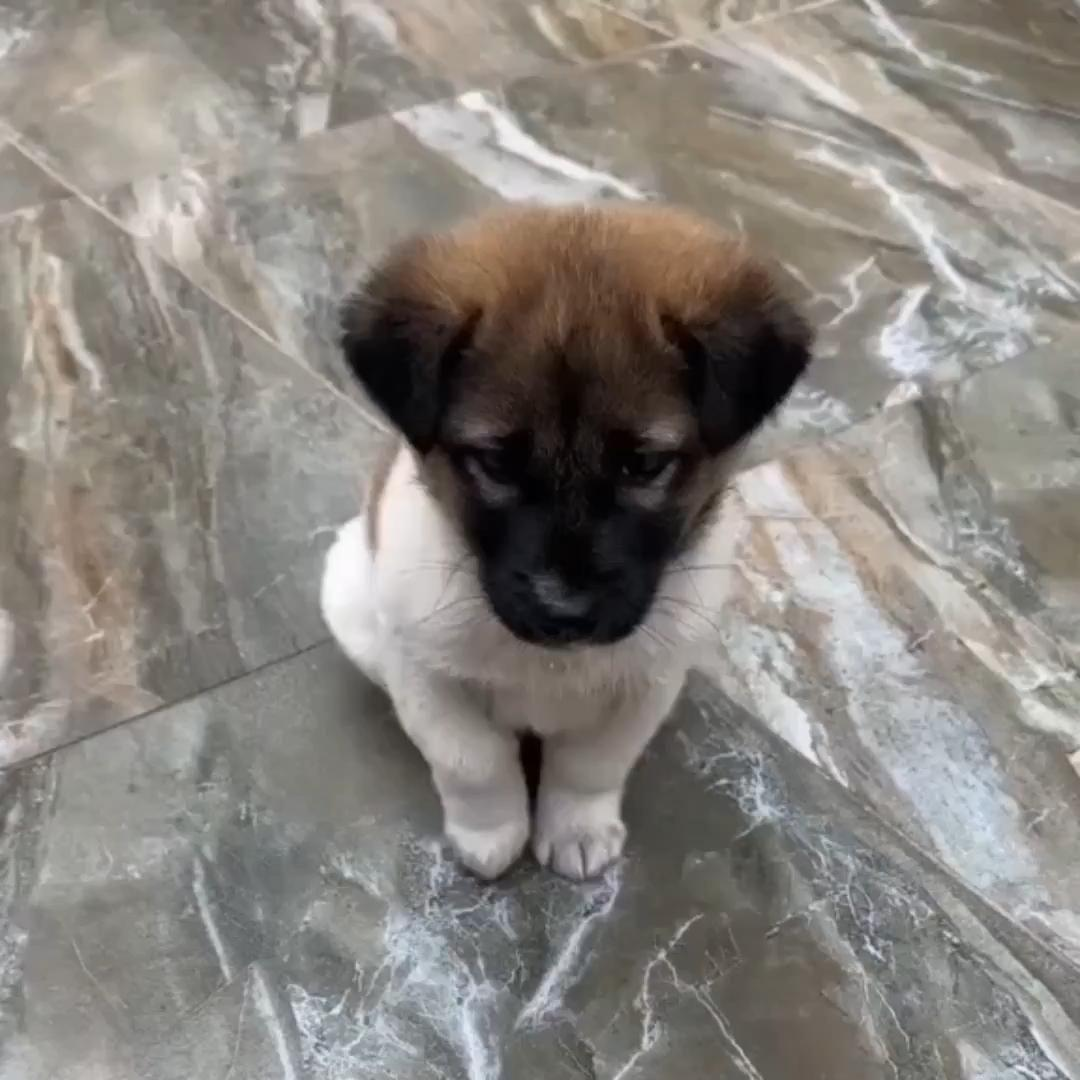puppy-dog: (318, 201, 819, 885)
